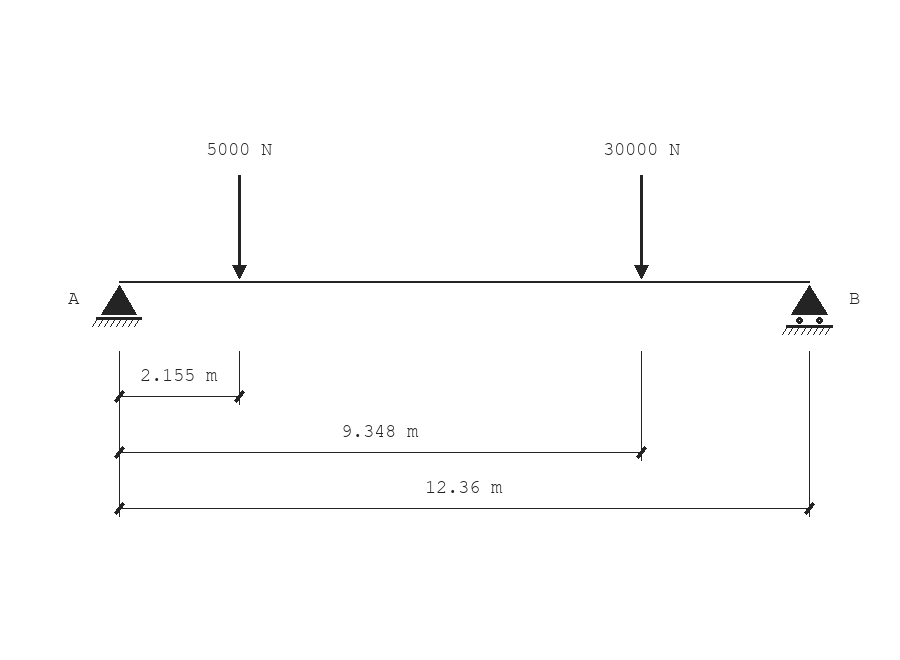pin_support: (92, 285, 142, 327)
point_load: (232, 175, 247, 279), (634, 175, 649, 279)
roller_support: (782, 285, 833, 335)
